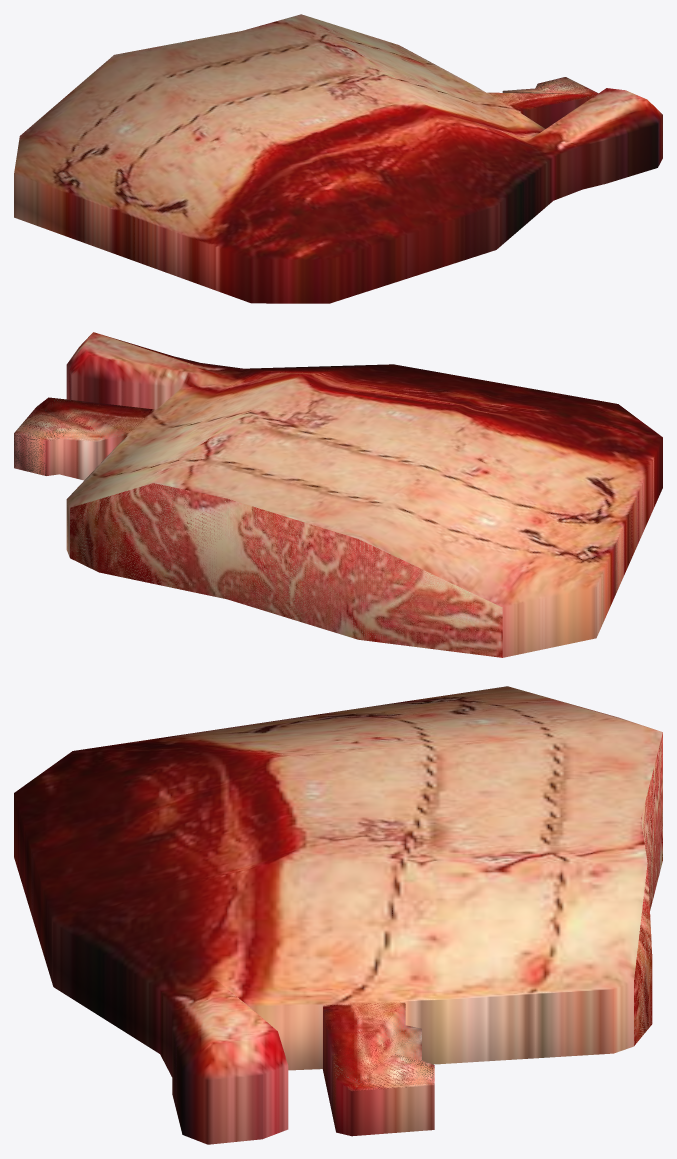
The model's file is ribs.dae.
3 views of the same model, one above another, from view 1: azimuth 30°, elevation 25°; view 2: azimuth 150°, elevation 25°; view 3: azimuth 270°, elevation 25° (orthographic). The views are drawn at different scales.
Visible parts, largest first — view 1: Component_57 (×2); view 2: Component_57 (×3); view 3: Component_57 (×3).
Boxes of the visible parts, x1,y1,x2,y2 form: Component_57 (×2): (14,14,662,303); Component_57 (×3): (14,332,662,657); Component_57 (×3): (14,686,662,1144).
Bounding box in the file's own units: 8.47 × 5.89 × 1.28.
3 materials, 3 textured.
